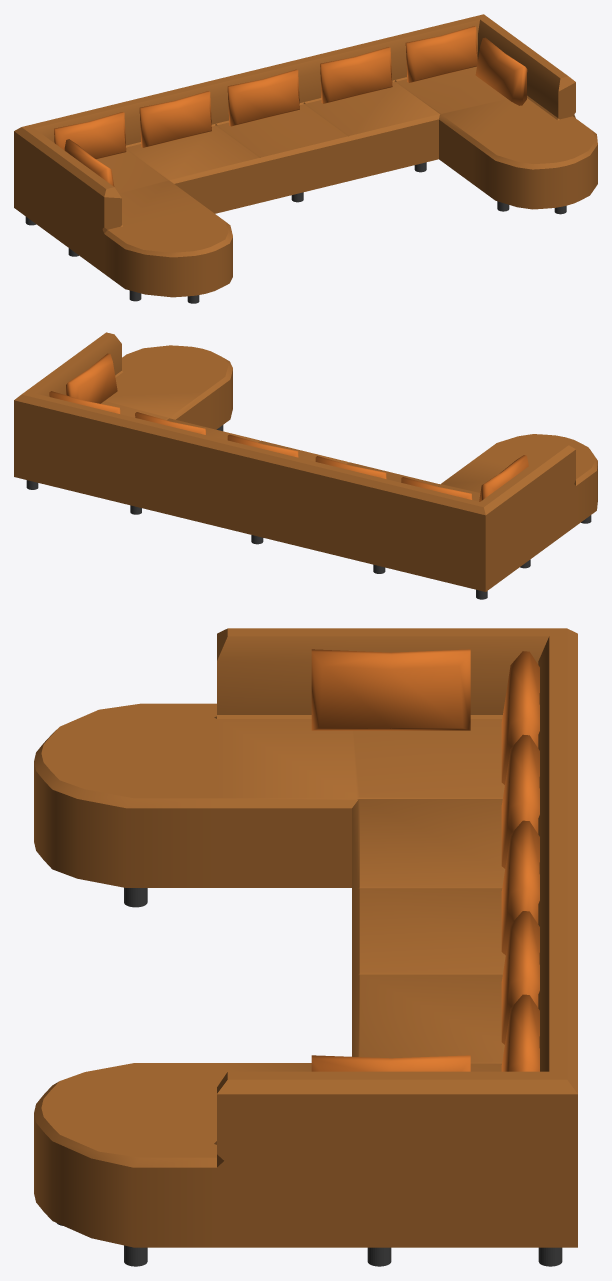
Rendered from couch.golden.egg.fbx.
3 views of the same model, one above another, from view 1: azimuth 30°, elevation 25°; view 2: azimuth 150°, elevation 25°; view 3: azimuth 270°, elevation 25° (orthographic). The views are drawn at different scales.
Parts seen in each view (by area): view 1: Couch, Pillow.001; view 2: Couch, Pillow.001; view 3: Couch, Pillow.001.
Part boxes in pixels (x1,y1,x2,y2): Couch: (14,14,597,303); Pillow.001: (54,26,527,186); Couch: (14,332,597,599); Pillow.001: (49,353,528,501); Couch: (34,628,577,1266); Pillow.001: (311,649,539,1071).
Bounding box in the file's own units: 1369 × 262 × 684.
